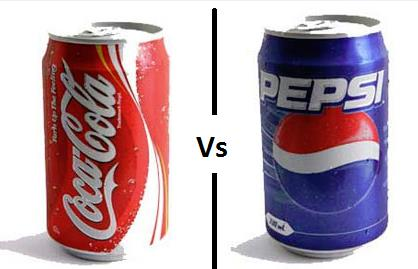can: (36, 17, 181, 265), (253, 12, 397, 258)
